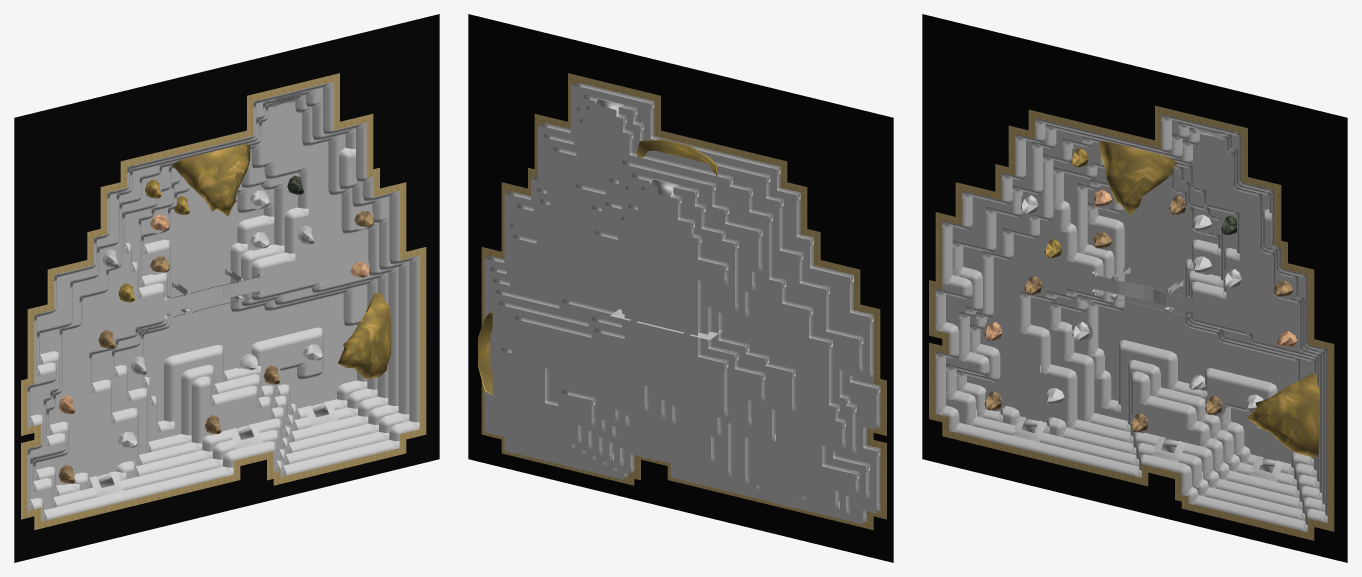
Rendered from Navel-Cave-West-1.obj.
3 renders of one model, left to right at view 1: azimuth 30°, elevation 25°; view 2: azimuth 150°, elevation 25°; view 3: azimuth 330°, elevation 25°, orthographic.
Visible parts, largest first — view 1: map; view 2: map; view 3: map.
Boxes of the visible parts, x1,y1,x2,y2 form: map: (14,14,439,562); map: (468,14,893,562); map: (922,14,1347,562).
Size of the model in its own units: 64 by 64 by 7.86.
